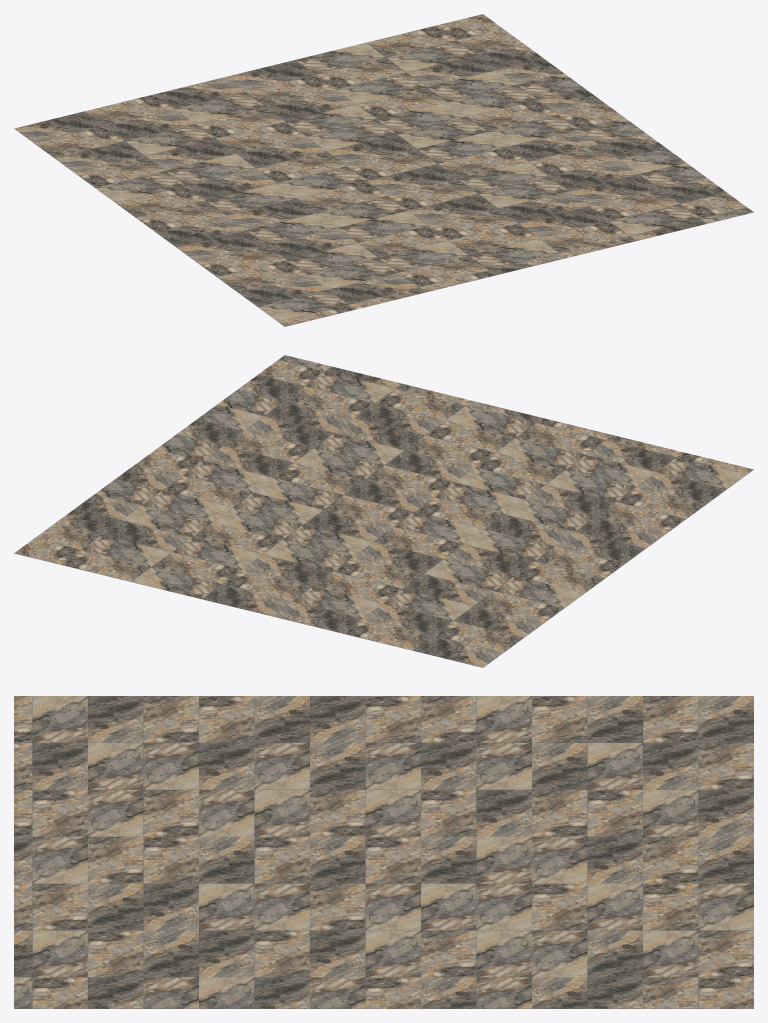
The model's file is hard-stone-60x120.glb.
The picture shows the model from 3 angles, top to bottom: view 1: azimuth 30°, elevation 25°; view 2: azimuth 150°, elevation 25°; view 3: azimuth 270°, elevation 25°; orthographic projection. The views are drawn at different scales.
Parts seen in each view (by area): view 1: Hard Stone; view 2: Hard Stone; view 3: Hard Stone.
Part boxes in pixels (bbox=[...]): Hard Stone: bbox=[14, 14, 753, 326]; Hard Stone: bbox=[14, 355, 753, 667]; Hard Stone: bbox=[14, 696, 753, 1008].
Size of the model in its own units: 8 by 0.003 by 8.
2 materials, 1 textured.
